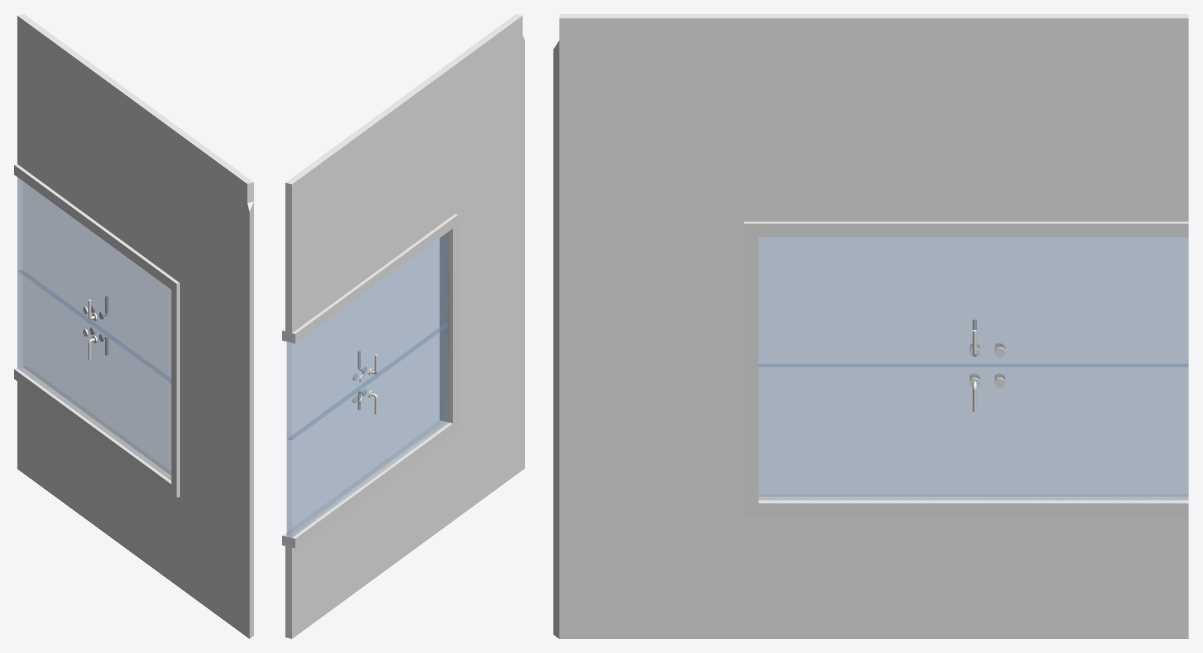
3 views of the same model, side by side, from view 1: azimuth 30°, elevation 25°; view 2: azimuth 150°, elevation 25°; view 3: azimuth 270°, elevation 25° (orthographic). The views are drawn at different scales.
Parts seen in each view (by area): view 1: 0_3_2_1_1_1_1; view 2: 0_3_2_1_1_1_1; view 3: 0_3_2_1_1_1_1.
Boxes of the visible parts, x1,y1,x2,y2 form: 0_3_2_1_1_1_1: (14,14,253,638); 0_3_2_1_1_1_1: (282,14,524,638); 0_3_2_1_1_1_1: (553,14,1188,638).
Bounding box in the file's own units: 0.1472 × 3.26 × 3.03.
